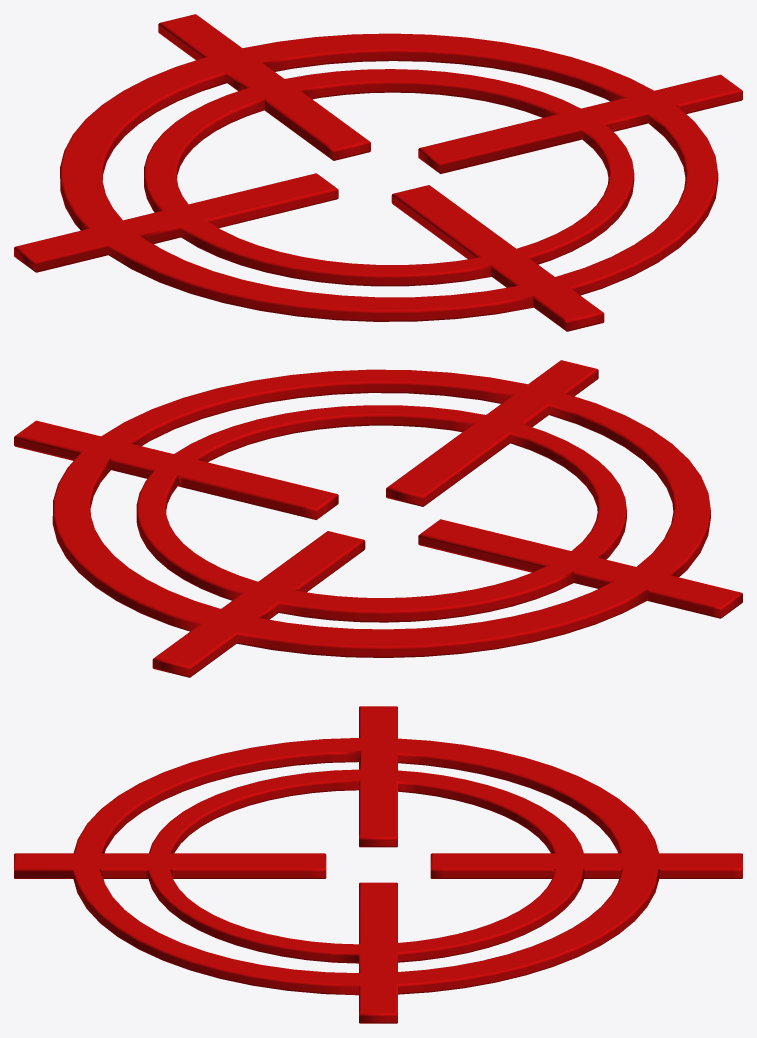
The model's file is seleccion.obj.
The picture shows the model from 3 angles, top to bottom: view 1: azimuth 30°, elevation 25°; view 2: azimuth 150°, elevation 25°; view 3: azimuth 270°, elevation 25°; orthographic projection. The views are drawn at different scales.
Parts seen in each view (by area): view 1: Curve.000_path2991.002; view 2: Curve.000_path2991.002; view 3: Curve.000_path2991.002.
Boxes of the visible parts, x1=… form: Curve.000_path2991.002: x1=14, y1=14, x2=742, y2=331; Curve.000_path2991.002: x1=14, y1=360, x2=742, y2=677; Curve.000_path2991.002: x1=14, y1=706, x2=742, y2=1023.
Bounding box in the file's own units: 8.29 × 0.1337 × 8.29.
